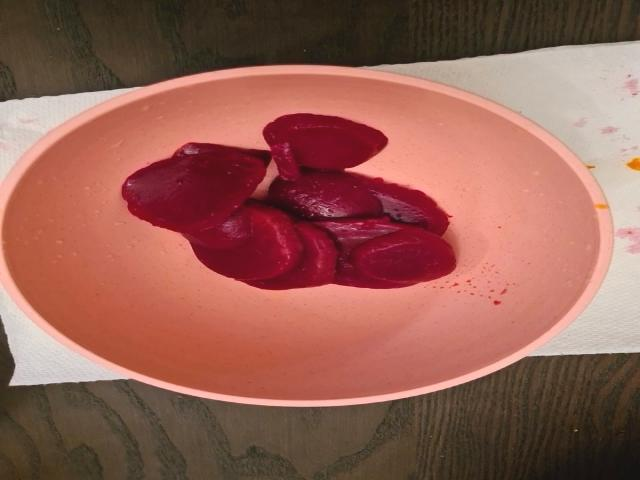kichen waste: (122, 112, 458, 292)
